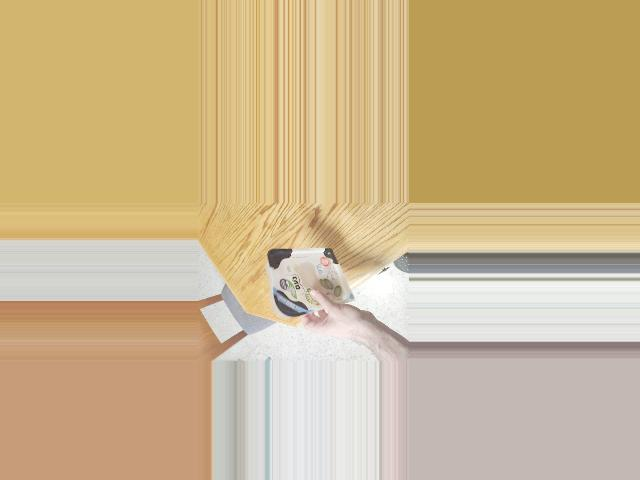cheese: (264, 254, 348, 306)
